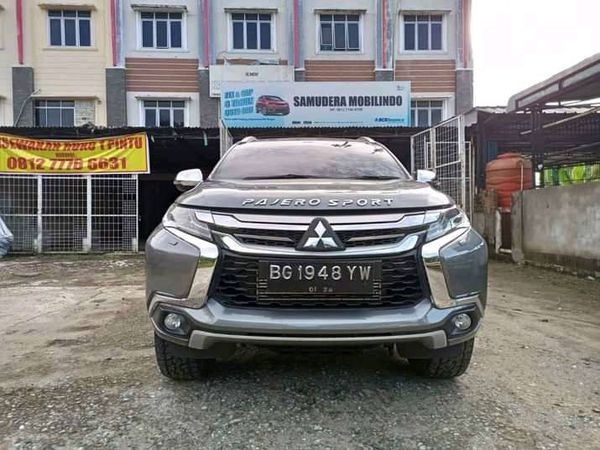plate: (259, 259, 377, 296)
